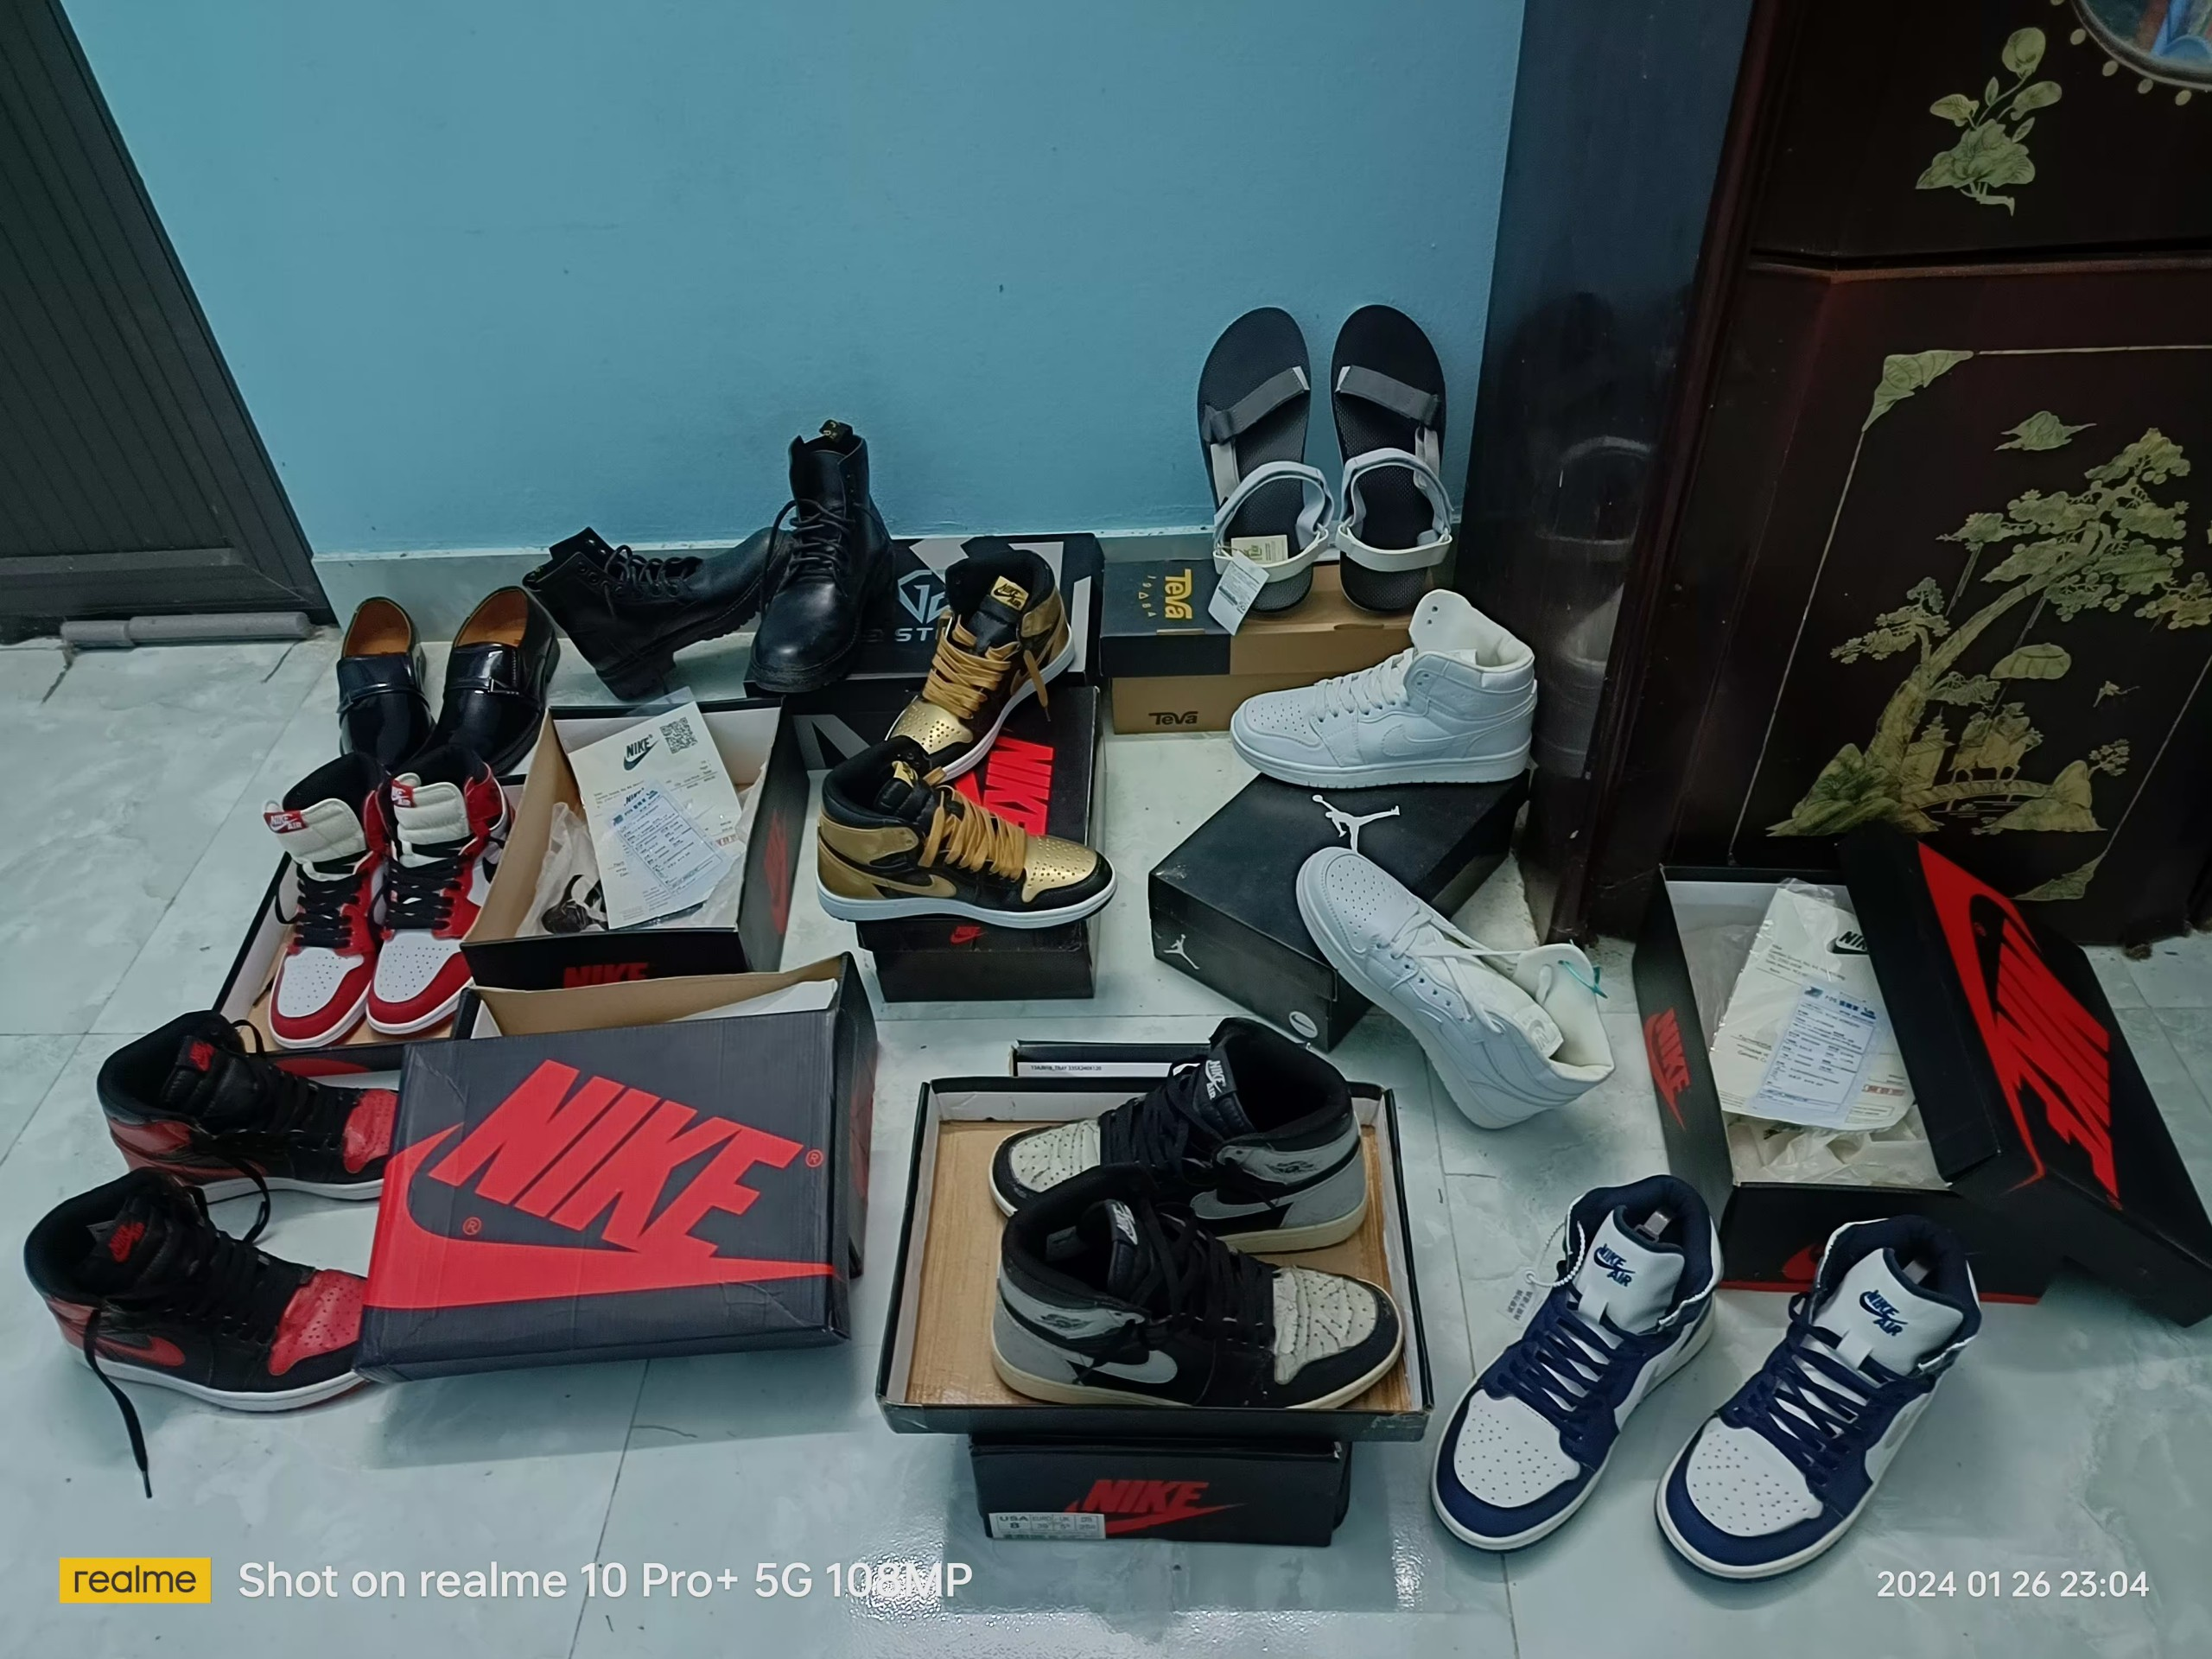boots: (524, 521, 798, 704), (752, 420, 895, 699)
loafers: (428, 586, 559, 788), (334, 596, 439, 781)
sandals: (1195, 303, 1332, 619), (1327, 298, 1456, 622)
sneakers: (1656, 1215, 1987, 1582), (1428, 1161, 1728, 1554), (988, 1180, 1416, 1410), (1298, 836, 1620, 1138), (988, 1011, 1369, 1251), (21, 1173, 373, 1412), (94, 1014, 402, 1209), (1223, 591, 1541, 779), (815, 732, 1118, 922), (883, 545, 1076, 788), (368, 756, 517, 1037), (261, 749, 390, 1051)
